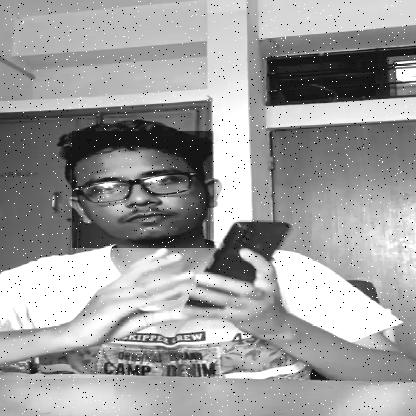Normal: (72, 131, 214, 248)
